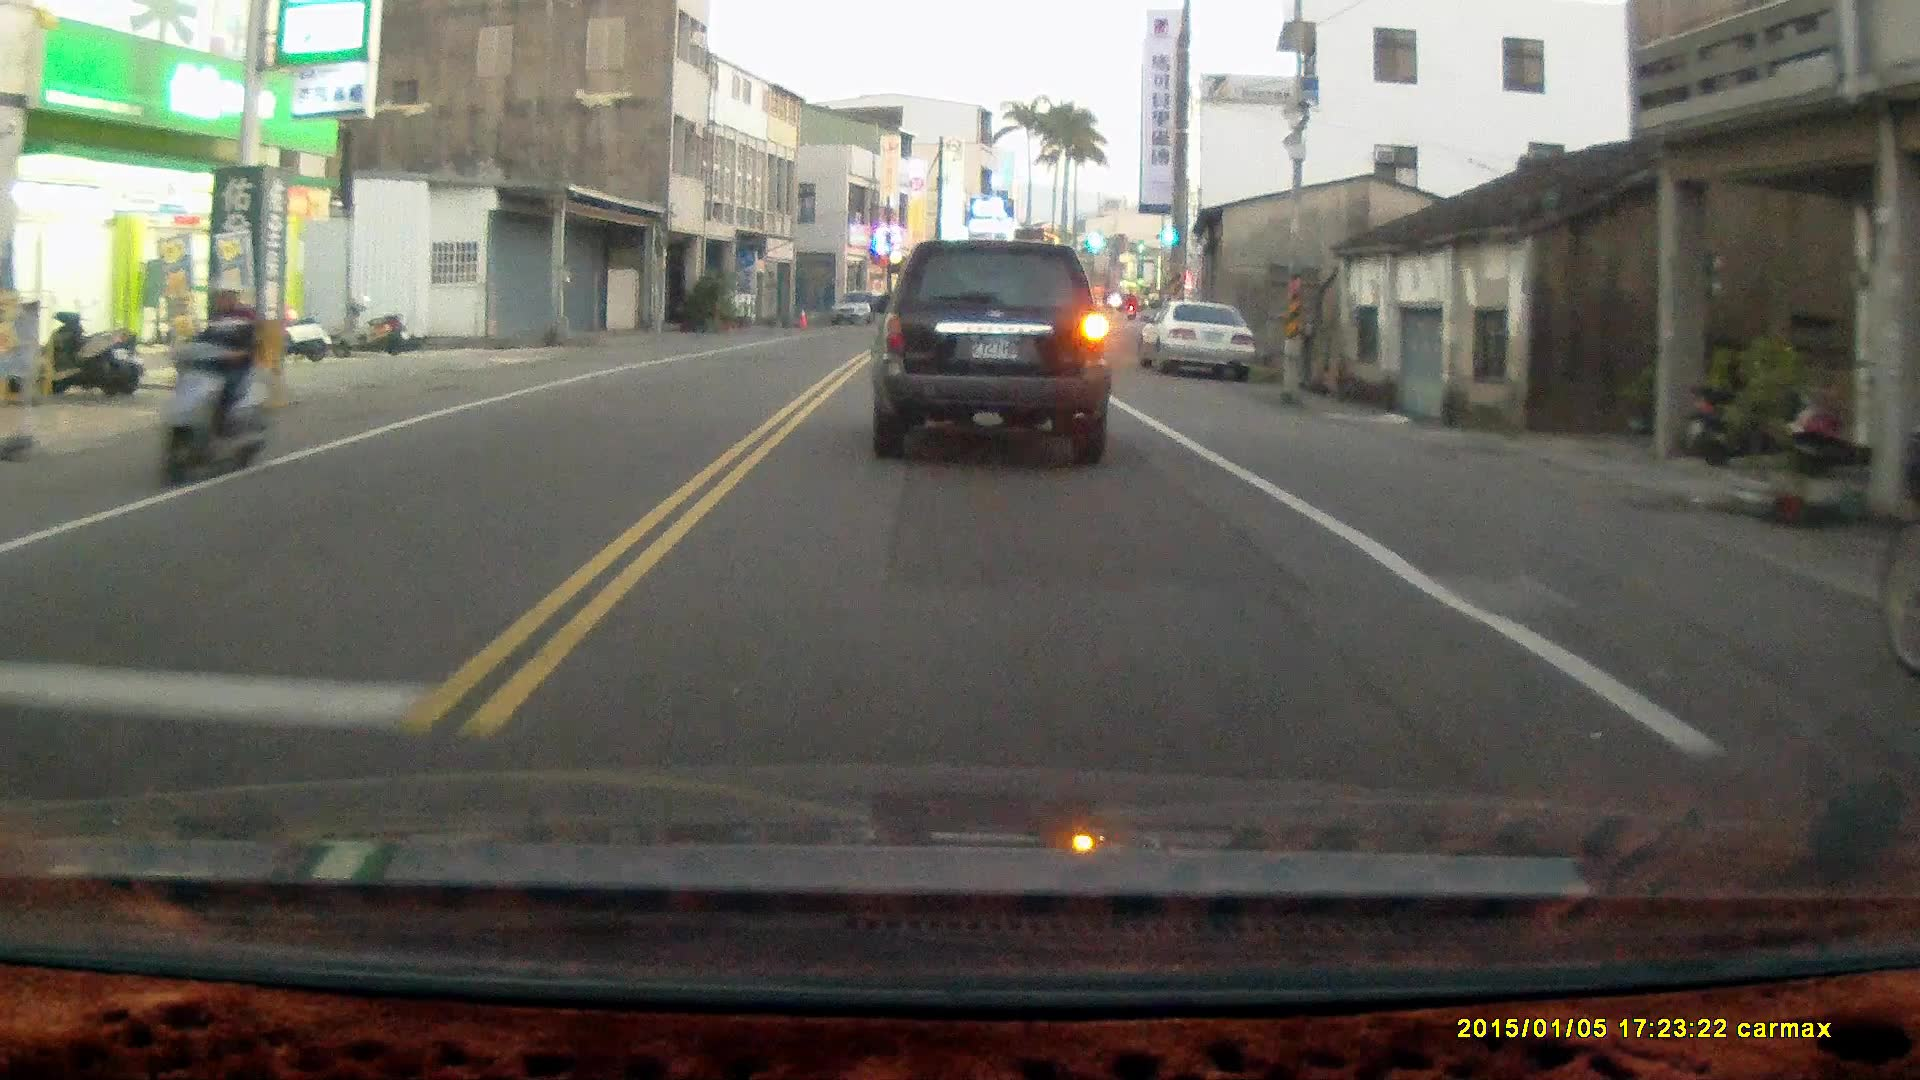rider: (152, 272, 271, 491)
vehicle: (871, 232, 1117, 460), (1141, 301, 1253, 380)
